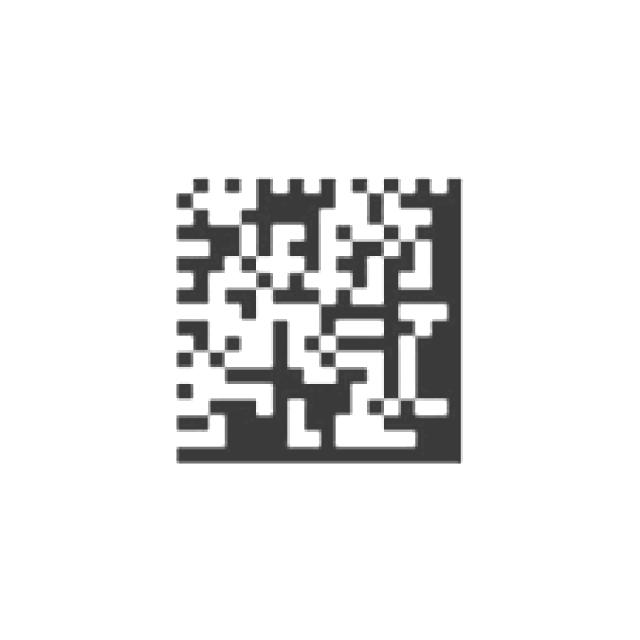DataMatrix: (151, 156, 492, 481)
